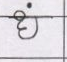anusvara: (27, 3, 32, 8)
